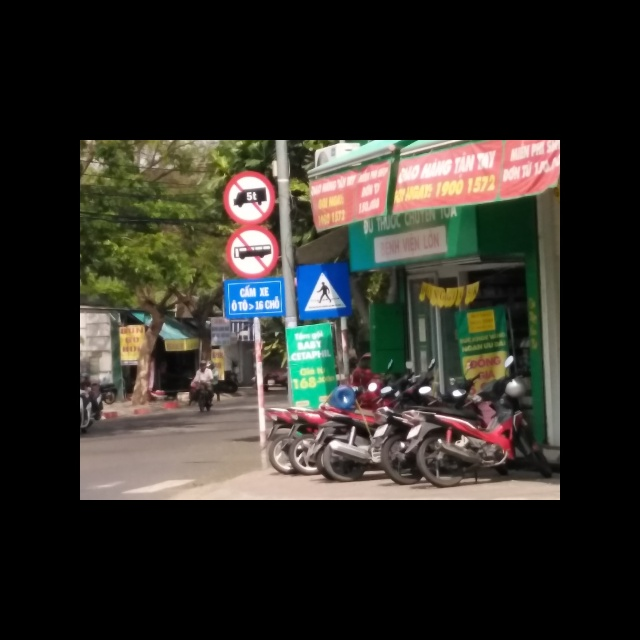Cấm xe tải: (223, 172, 275, 222)
Cấm xe xe khách: (225, 225, 281, 280)
Đường dành cho người đi bộ: (295, 262, 356, 318)
